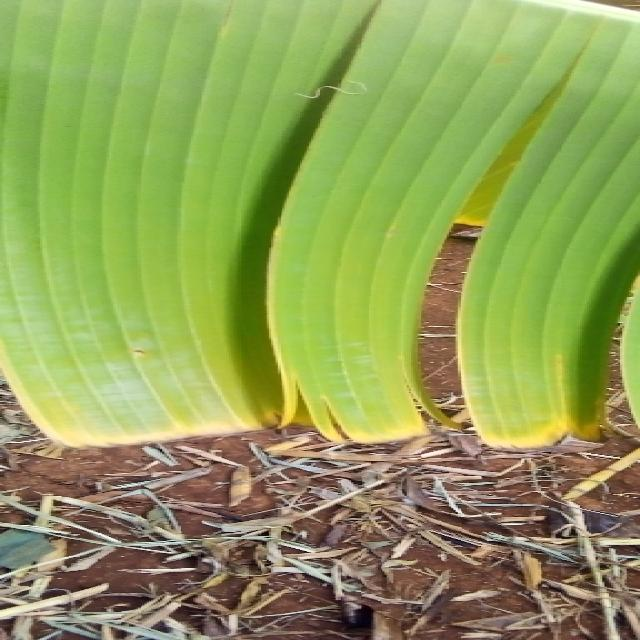Cordana: (5, 93, 640, 466), (394, 181, 516, 250)
